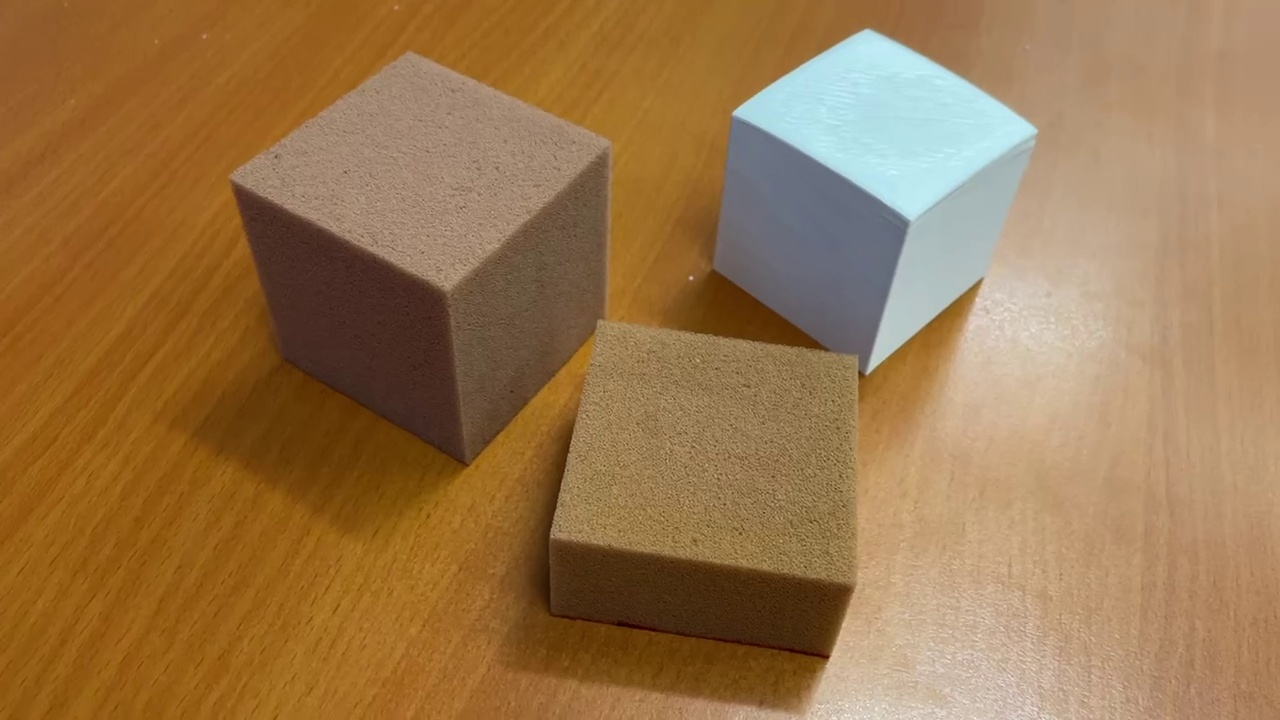Cube: (223, 47, 617, 474), (707, 17, 1047, 385)
Cube_short: (551, 316, 865, 669)
